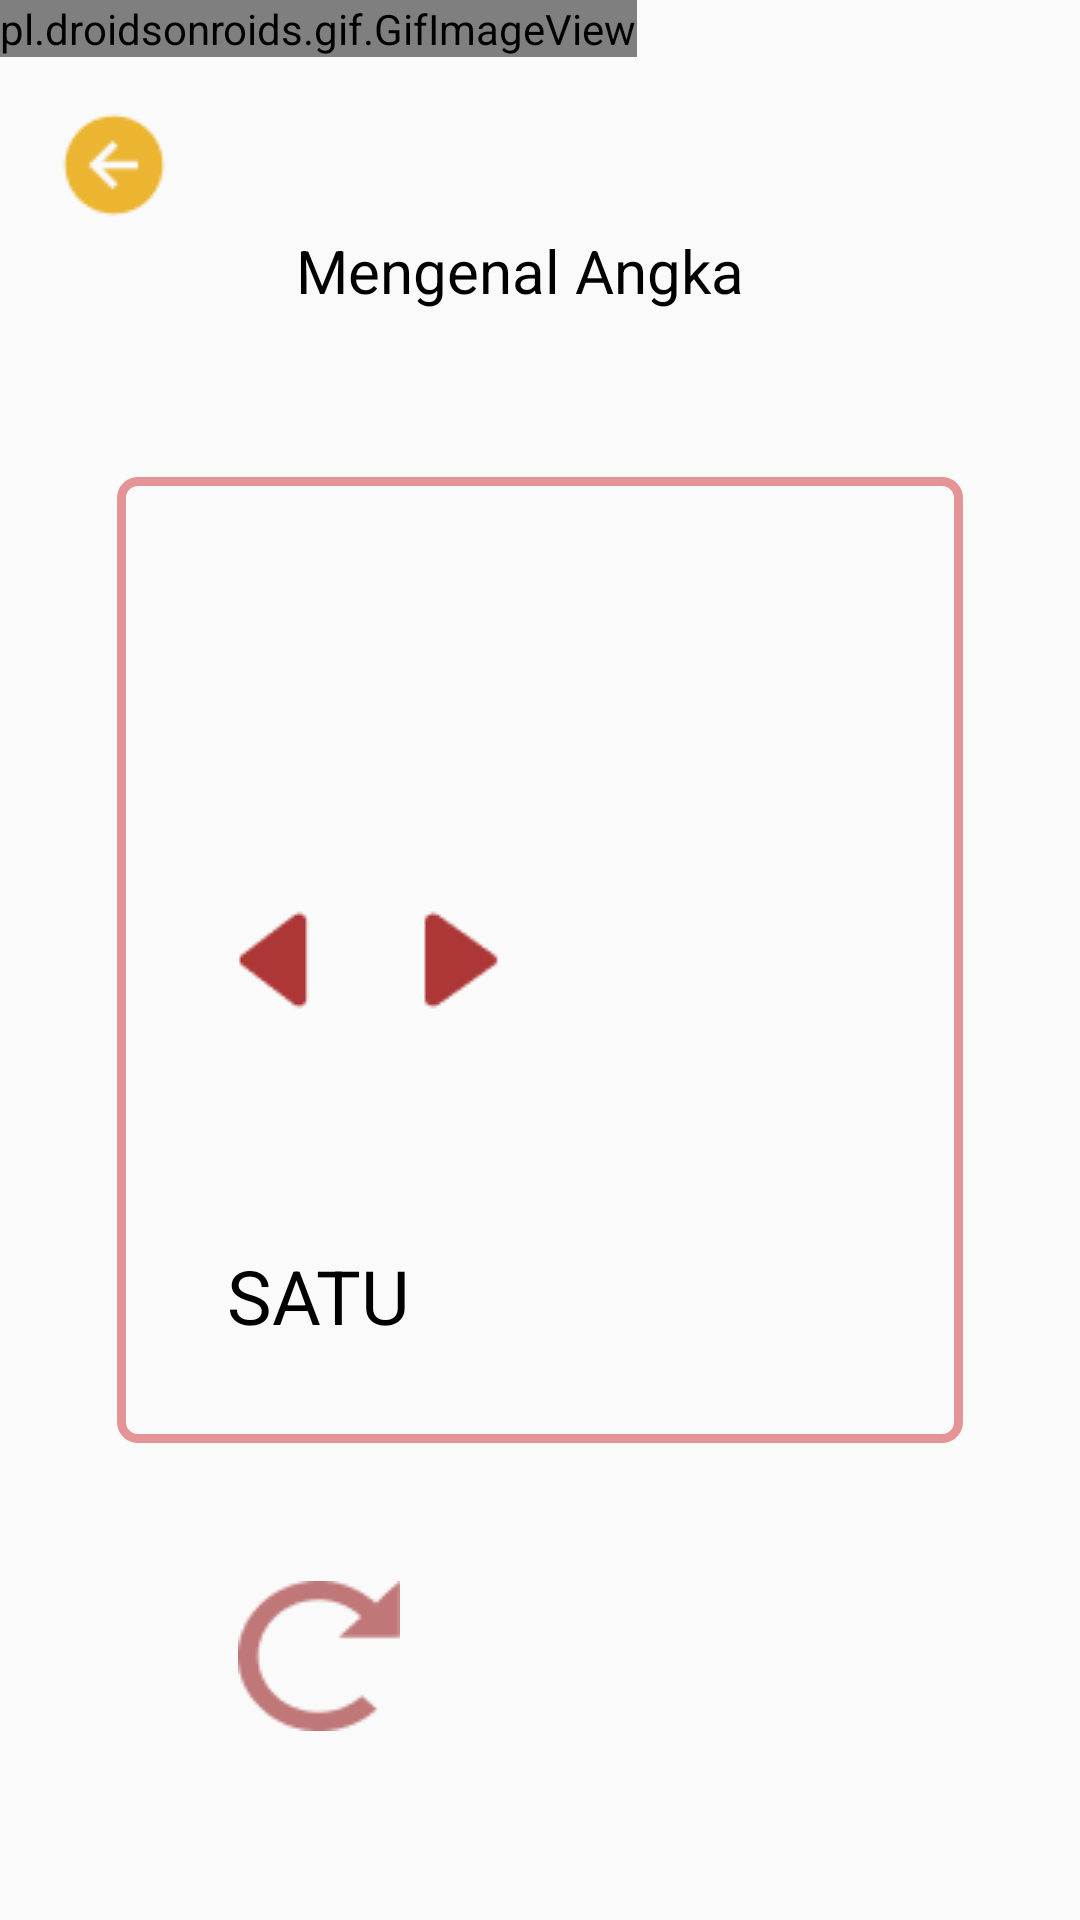

Where icons sit on this 1080px x 1920px app screen, as bbox=[x1, y1, x2, y2]:
keluar: bbox=[63, 114, 165, 216]
next: bbox=[424, 911, 498, 1008]
reload: bbox=[238, 1581, 400, 1731]
